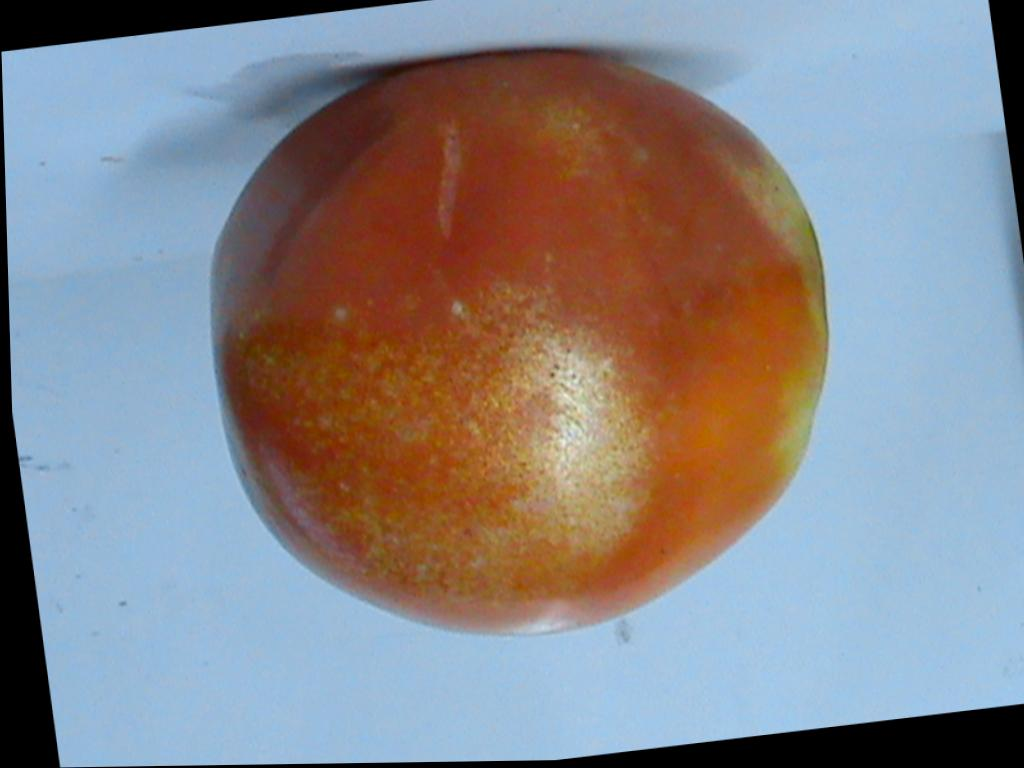bruise_discoloration: (230, 281, 664, 620), (725, 142, 828, 489), (511, 93, 618, 185)
surface_damage: (437, 123, 461, 239)
tomato: (212, 54, 827, 632)
